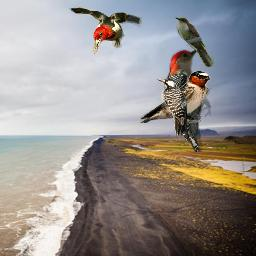Cuckoo: (174, 16, 214, 68)
Swallow: (139, 70, 211, 123)
Woodpecker: (163, 45, 211, 152), (66, 3, 142, 55), (157, 78, 187, 138)
